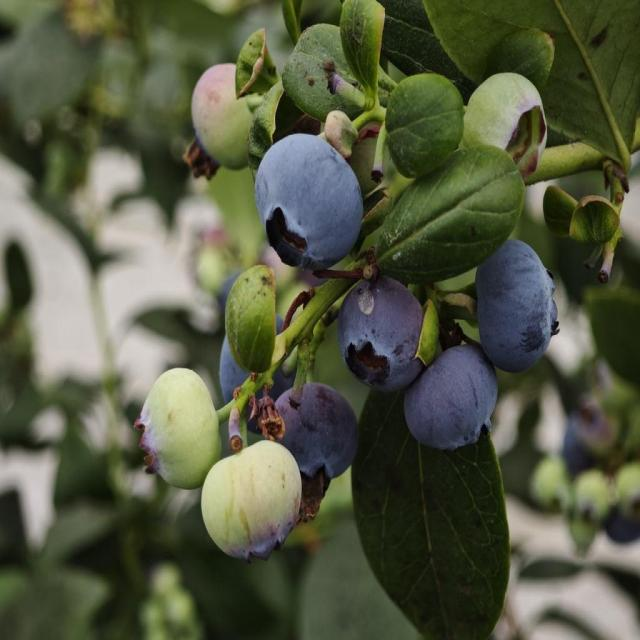RipeBlueBerry: (256, 128, 365, 267), (404, 346, 498, 454), (480, 242, 560, 362), (342, 279, 424, 395)
Semi-RipeBlueBerry: (202, 435, 302, 561), (136, 367, 221, 491)
